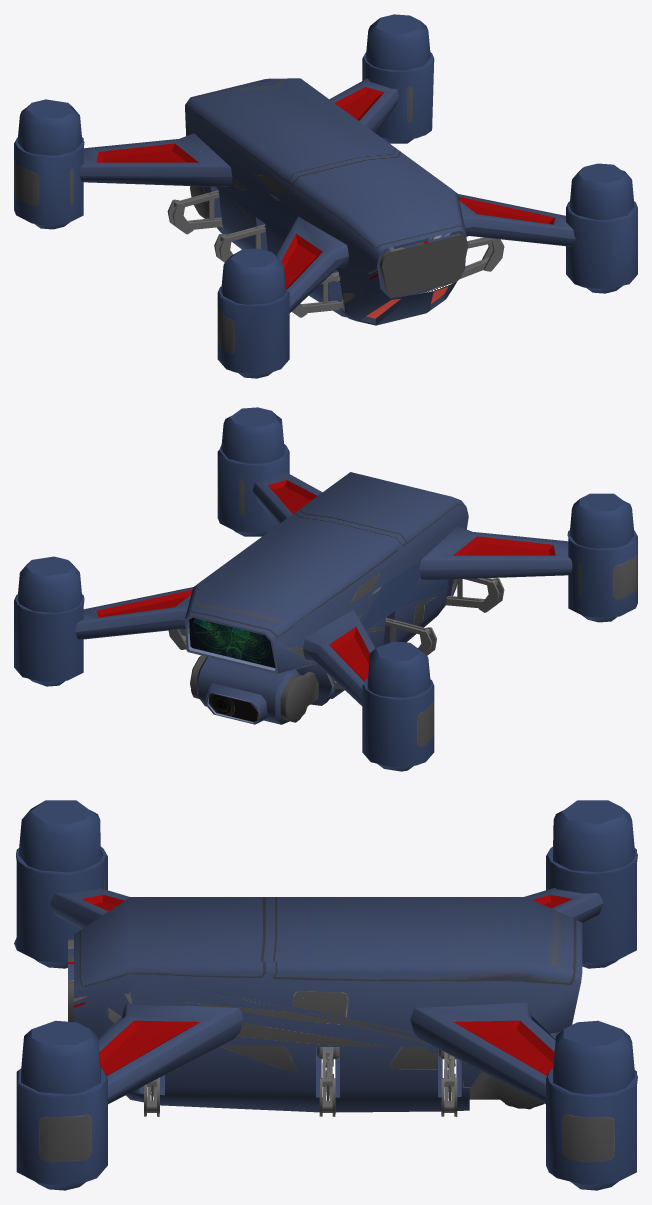
File: drone_lod_02.glb
3 renders of one model, top to bottom at view 1: azimuth 30°, elevation 25°; view 2: azimuth 150°, elevation 25°; view 3: azimuth 270°, elevation 25°, orthographic. The views are drawn at different scales.
Visible parts, largest first — view 1: drone_lod_02; view 2: drone_lod_02; view 3: drone_lod_02.
Part boxes in pixels (x1=…): drone_lod_02: x1=14, y1=14, x2=637, y2=378; drone_lod_02: x1=14, y1=407, x2=637, y2=771; drone_lod_02: x1=14, y1=800, x2=637, y2=1190.
Bounding box in the file's own units: 1.1 × 0.3318 × 1.11.
Materials: 1 (1 with a texture image).
